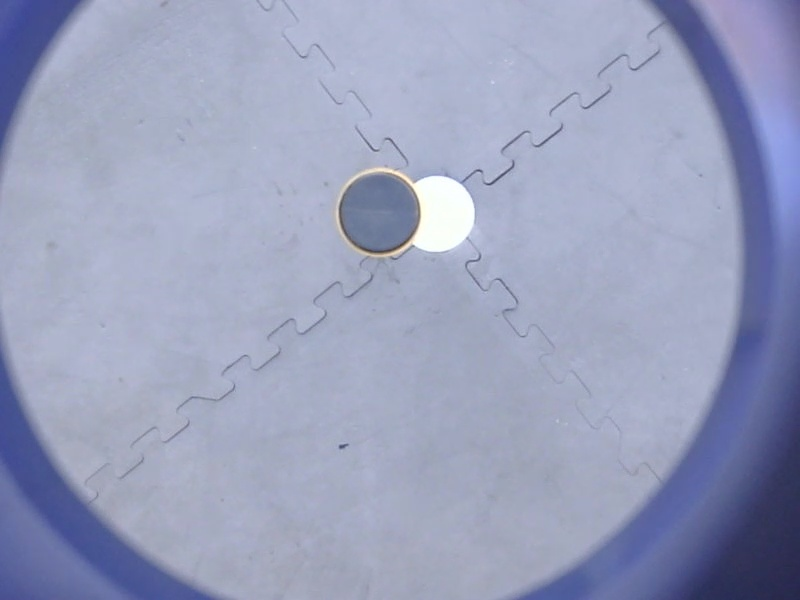tip: (330, 161, 429, 264)
